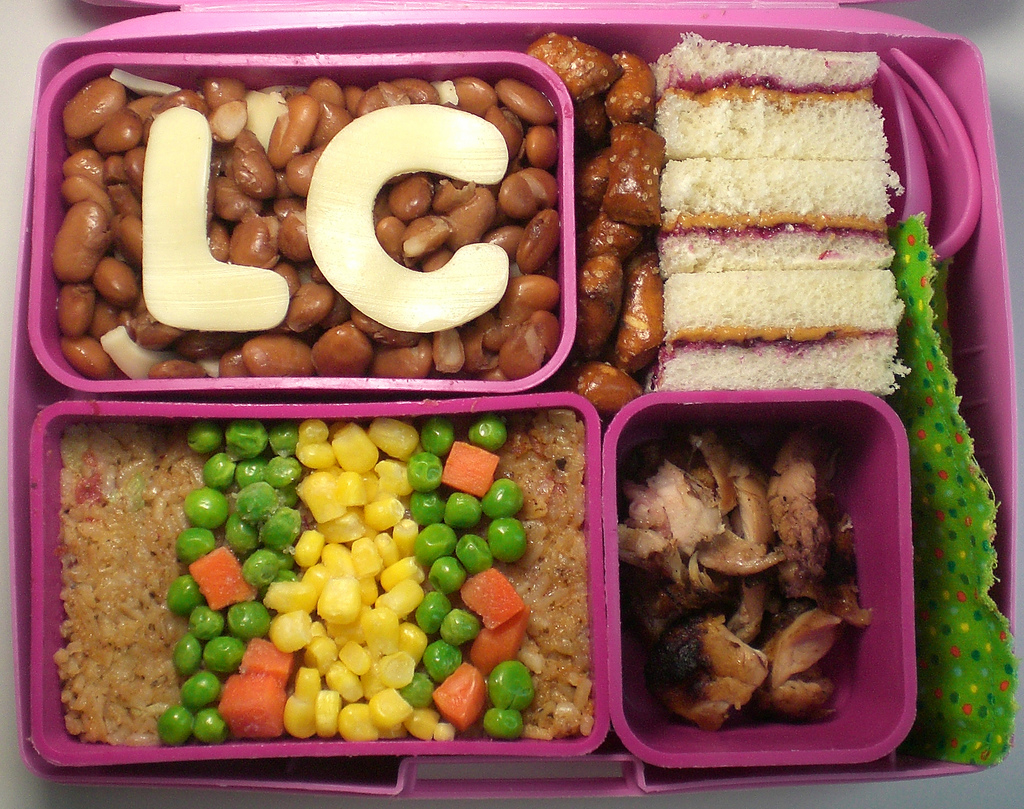boiled peas: (201, 434, 291, 568)
slice of bread: (678, 50, 893, 155)
